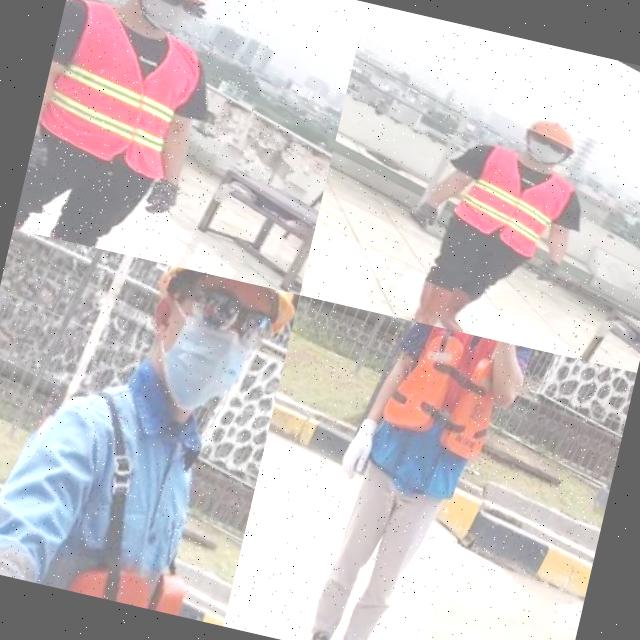boots: (401, 274, 456, 328), (436, 288, 480, 334), (283, 617, 339, 640)
helmet: (148, 262, 300, 348), (521, 108, 587, 156), (110, 0, 224, 14)
vest: (0, 335, 274, 626), (342, 314, 545, 524), (28, 0, 234, 198), (447, 134, 582, 267)
